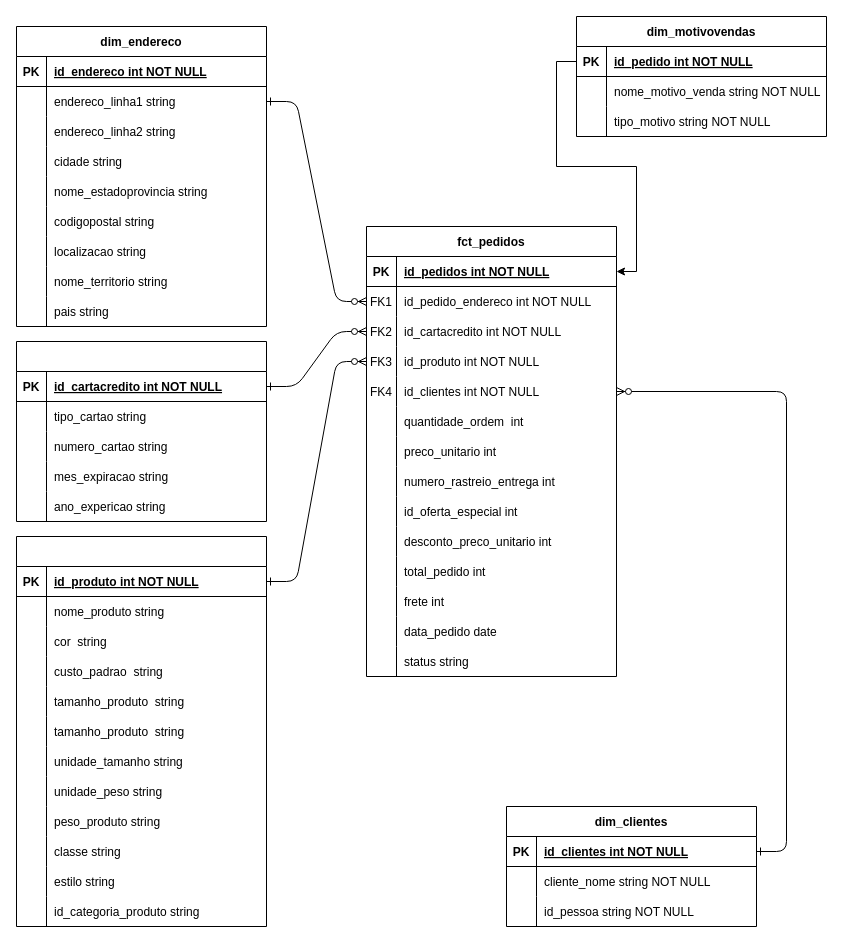
The diagram is 843 pixels wide and 943 high, and some of its shapes have lost their labels. Here are the shapes that lost their labels. From the top down, the box of each, then its label:
(16, 340, 266, 522): dim_cartacredito
(16, 536, 266, 926): dim_produtos
